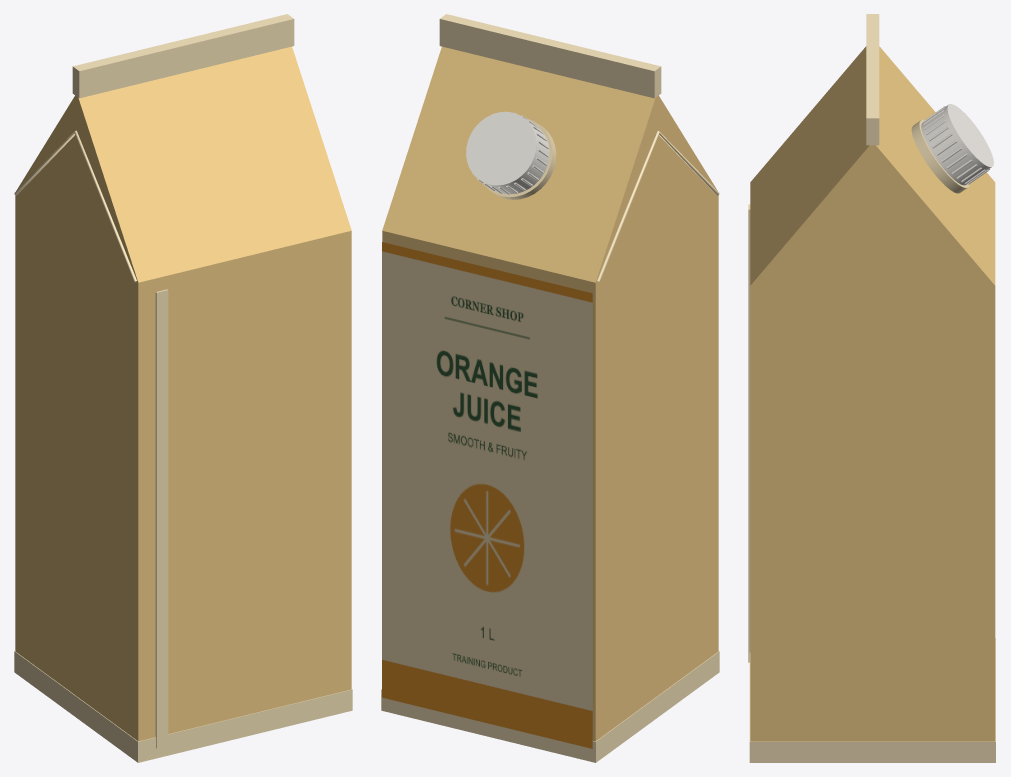
The model's file is orange-juice.glb.
3 views of the same model, side by side, from view 1: azimuth 30°, elevation 25°; view 2: azimuth 150°, elevation 25°; view 3: azimuth 270°, elevation 25° (orthographic).
Visible parts, largest first — view 1: library-orange-juice-product-orange-juice-carton, library-orange-juice-product-orange-juice-paper-fold; view 2: library-orange-juice-product-orange-juice-carton, library-orange-juice-orange-juice-front-label, library-orange-juice-product-orange-juice-paper-fold, library-orange-juice-product-orange-juice-cap; view 3: library-orange-juice-product-orange-juice-carton, library-orange-juice-product-orange-juice-paper-fold, library-orange-juice-product-orange-juice-cap.
Part boxes in pixels (left/top/right/bottom): library-orange-juice-product-orange-juice-carton: left=15, top=46, right=351, bottom=741; library-orange-juice-product-orange-juice-paper-fold: left=14, top=14, right=352, bottom=762; library-orange-juice-product-orange-juice-carton: left=382, top=46, right=718, bottom=741; library-orange-juice-orange-juice-front-label: left=382, top=242, right=592, bottom=748; library-orange-juice-product-orange-juice-paper-fold: left=381, top=14, right=719, bottom=762; library-orange-juice-product-orange-juice-cap: left=466, top=111, right=549, bottom=194; library-orange-juice-product-orange-juice-carton: left=750, top=46, right=995, bottom=741; library-orange-juice-product-orange-juice-paper-fold: left=748, top=14, right=995, bottom=762; library-orange-juice-product-orange-juice-cap: left=921, top=104, right=993, bottom=185.
Size of the model in its own units: 0.0751 by 0.215 by 0.075.
Materials: 5 (2 with a texture image).
